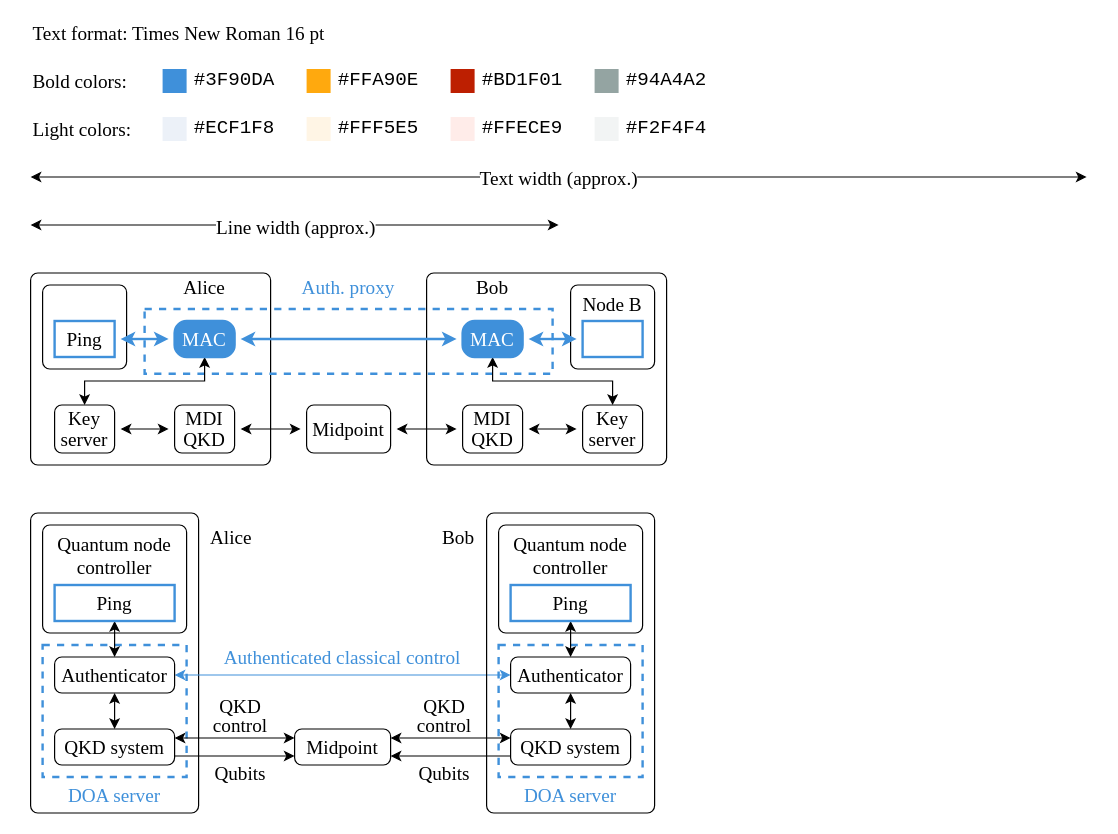
The diagram is 1118 pixels wide and 834 high, and some of its shapes have lost their labels. Here are the shapes that lost their labels. From the top down, the box of each, then its label:
(41, 284, 127, 369): Node A
(581, 319, 643, 358): Pong
